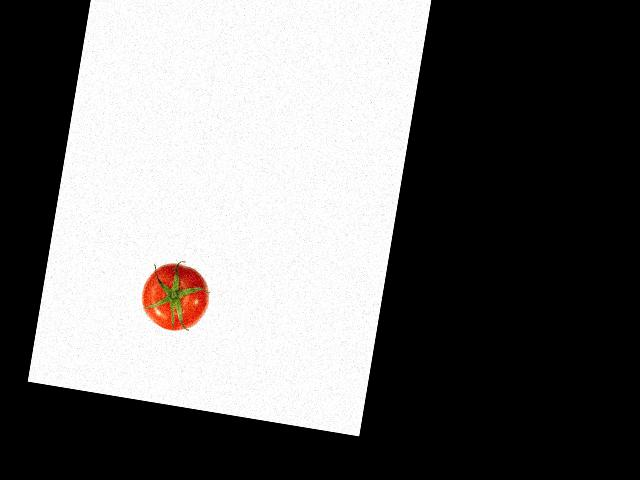tomato: (137, 259, 214, 336)
